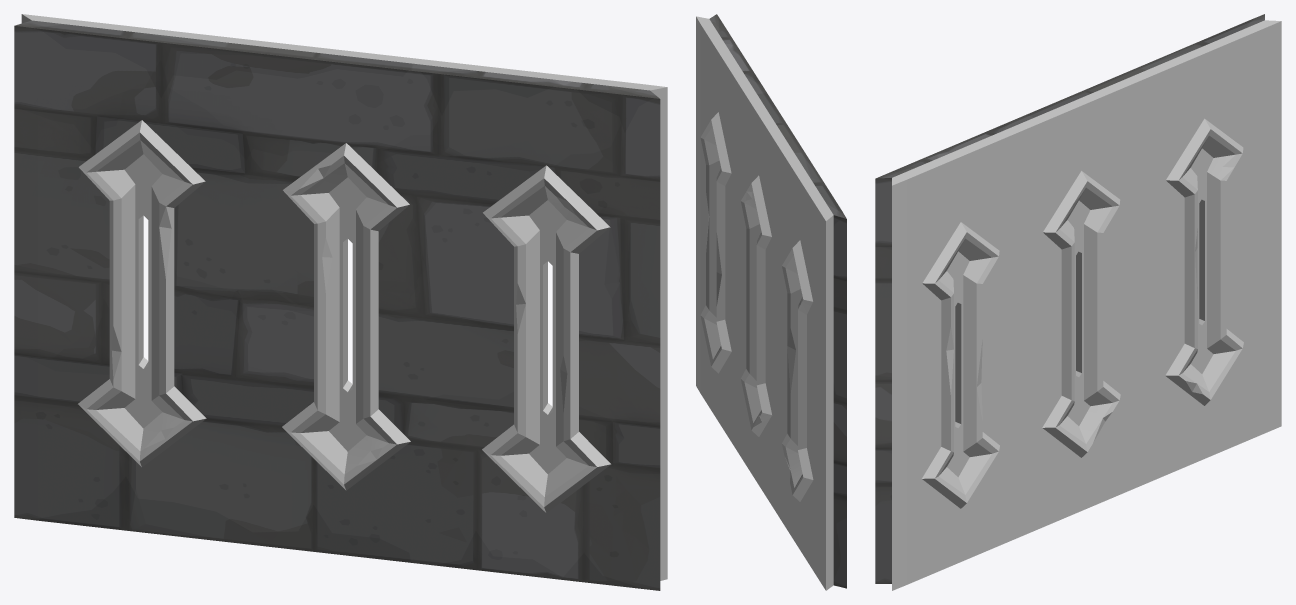
Rendered from SM_Bld_45_Wall_L_02.fbx.
3 views of the same model, side by side, from view 1: azimuth 30°, elevation 25°; view 2: azimuth 150°, elevation 25°; view 3: azimuth 270°, elevation 25° (orthographic). The views are drawn at different scales.
Visible parts, largest first — view 1: SM_Bld_45_Wall_L_02; view 2: SM_Bld_45_Wall_L_02; view 3: SM_Bld_45_Wall_L_02.
Boxes of the visible parts, left/top/right/bottom form: SM_Bld_45_Wall_L_02: left=14, top=14, right=667, bottom=590; SM_Bld_45_Wall_L_02: left=696, top=14, right=846, bottom=590; SM_Bld_45_Wall_L_02: left=875, top=14, right=1281, bottom=590.
Size of the model in its own units: 545 by 601 by 545.
